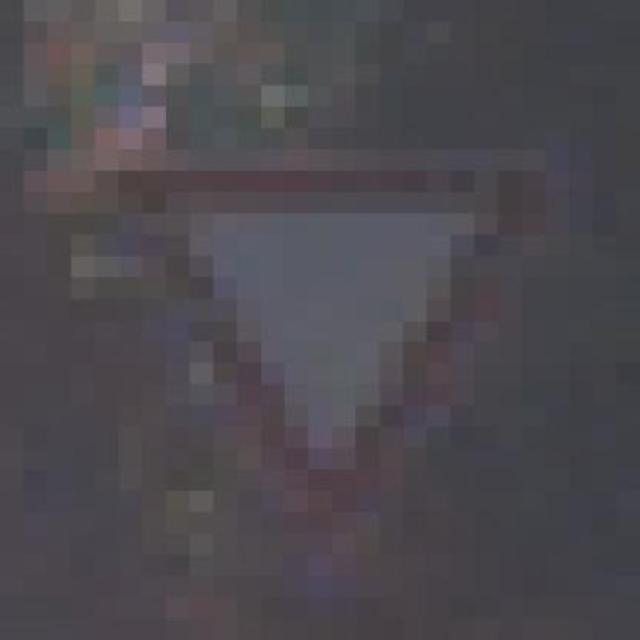Give Way: (120, 93, 571, 584)
